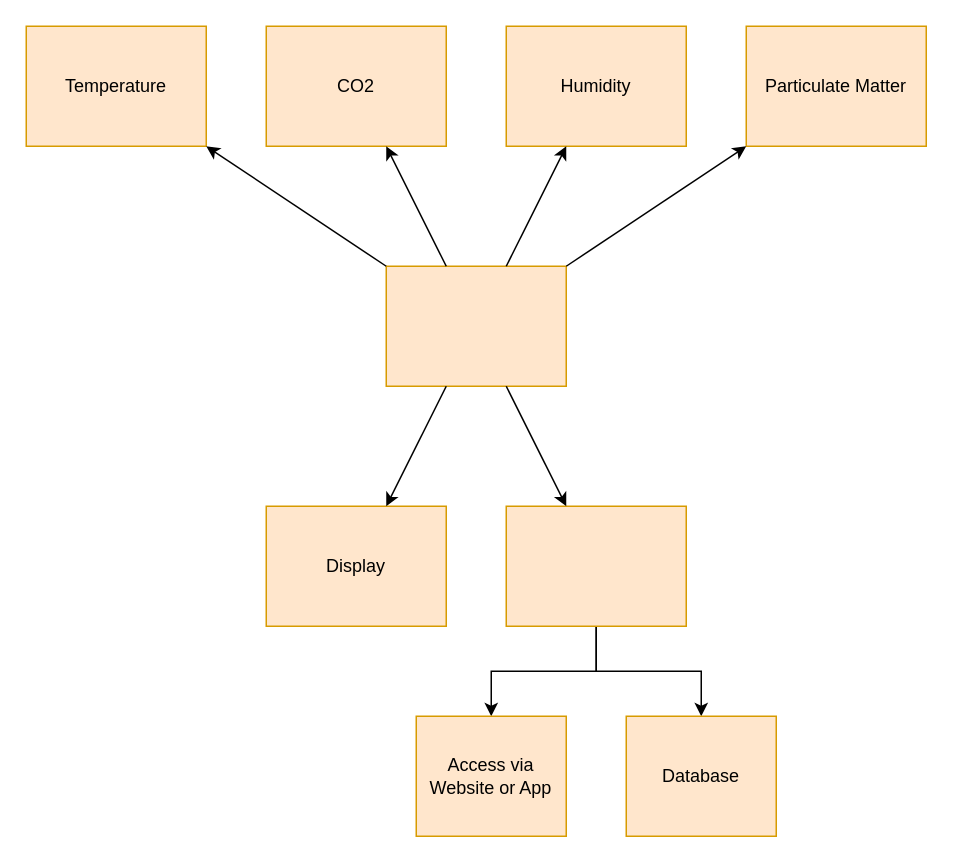
The diagram is 953 pixels wide and 863 high, and some of its shapes have lost their labels. The box of each missing label's shape, as (x1, y1, x2, y2) in pixels:
Home Automation (Home Assistant, openHAB, ...): (505, 505, 686, 626)
MCU: (385, 265, 566, 386)
